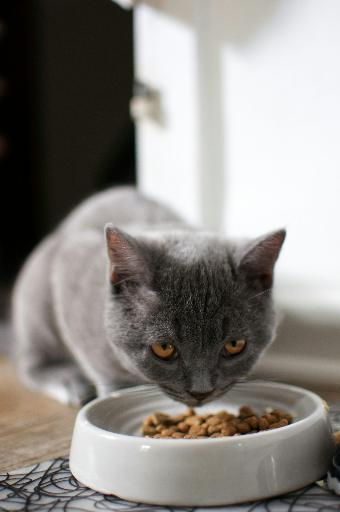cat_eating: (13, 187, 335, 506)
